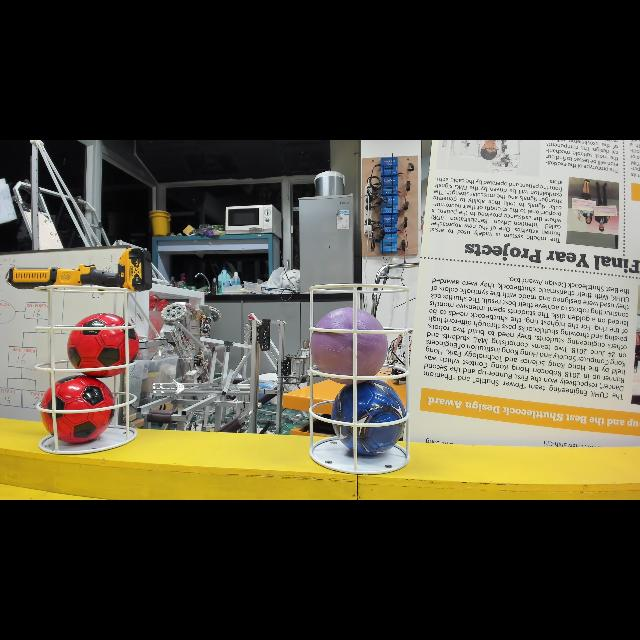B: (330, 378, 406, 458)
P: (310, 306, 392, 384)
R: (40, 374, 118, 446), (65, 310, 143, 382)
S: (308, 281, 412, 479), (26, 280, 138, 460)
